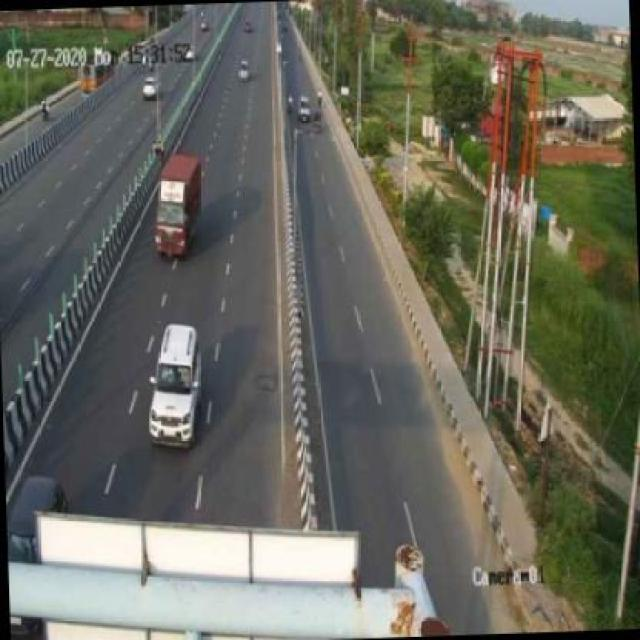car: (144, 326, 204, 451)
